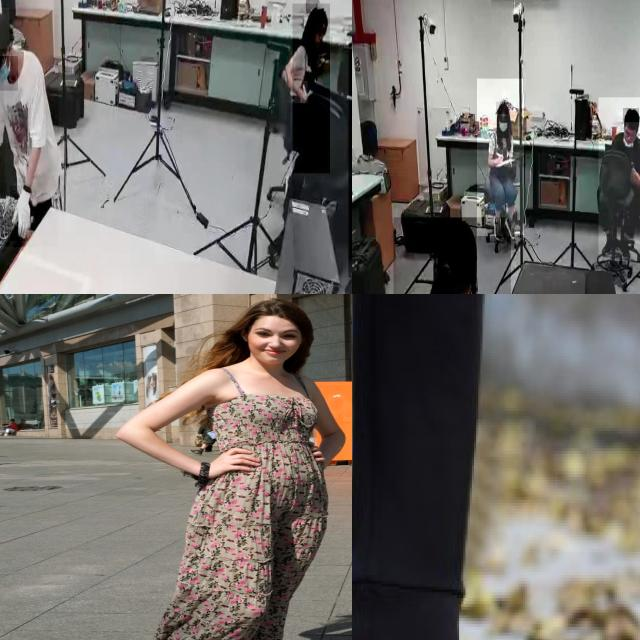face_mask: (0, 56, 18, 90), (498, 116, 508, 138)
face_nomask: (313, 26, 325, 49)
hand_glove: (10, 186, 34, 242)
hand_noglove: (294, 81, 308, 104), (494, 150, 504, 164)
head_nohelmet: (435, 217, 477, 263), (0, 8, 10, 50), (309, 5, 327, 23), (623, 108, 639, 123), (496, 102, 509, 115)
person: (0, 9, 59, 248), (393, 217, 511, 294), (477, 79, 525, 236), (598, 97, 640, 261), (292, 4, 330, 174)
shoes: (489, 212, 505, 242), (619, 231, 634, 260)
